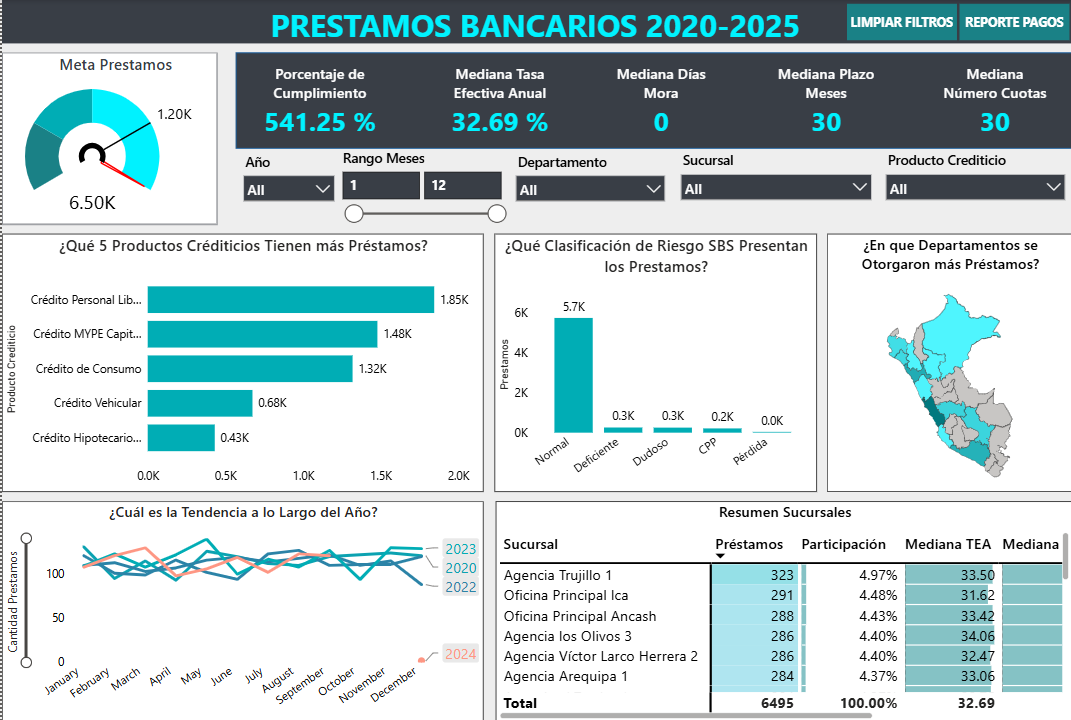

This screenshot's page, from the dashboard's own definition file:
{"tool":"powerbi","page":{"name":"Prestamos Bancarios","canvas":[1480,1000],"ordinal":0},"visuals":[{"type":"shape","box":[0,0,1480,60],"z":0},{"type":"textbox","box":[366.3,0,747.5,72.9],"z":1000},{"type":"actionButton","box":[1324.3,5.7,151.7,50],"z":2000},{"type":"Tachometer1474636471549","title":"Meta Prestamos","fields":{"Y":["Count(fact_prestamos.prestamo_llave)"],"StartValue":["Valores Termometro Prestamos.valor_inicio_meta"],"EndValue":["Valores Termometro Prestamos.valor_final_del_termometro"],"TargetValue":["Valores Termometro Prestamos.meta_prestamos_anuales"],"Range2StartValue":["Valores Termometro Prestamos.inicio_rango_2"],"Range3StartValue":["Valores Termometro Prestamos.inicio_rango_3"]},"box":[0,73.3,297.5,237.7],"z":3000},{"type":"shape","box":[322.9,72.9,1157.1,132.9],"z":4000},{"type":"cardVisual","fields":{"Data":["Metricas.porcentaje_cumplimiento_meta"]},"box":[323.3,73.3,233.3,131.7],"z":5000},{"type":"cardVisual","fields":{"Data":["Metricas.mediana_tasa_efectiva_anual"]},"box":[581.4,72.9,212.7,133.1],"z":6000},{"type":"cardVisual","fields":{"Data":["Median(fact_prestamos.plazo_meses)"]},"box":[1032.9,72.9,212.7,133.1],"z":7000},{"type":"cardVisual","fields":{"Data":["Median(fact_prestamos.numero_cuotas_total)"]},"box":[1267.1,72.9,212.7,133.1],"z":8000},{"type":"slicer","fields":{"Values":["dim_fechas.Año"]},"box":[323.4,206.2,146.9,110.5],"z":9000},{"type":"slicer","fields":{"Values":["dim_fechas.Numero Mes"]},"box":[463.5,204.8,237.2,144.2],"z":10000},{"type":"slicer","fields":{"Values":["dim_productos_crediticios.nombre_producto"]},"box":[1211.4,204.3,268.6,95.7],"z":11000},{"type":"slicer","fields":{"Values":["dim_sucursales.nombre_sucursal"]},"box":[927.1,204.3,284.3,95.7],"z":12000},{"type":"lineChart","title":"¿Cuál es la Tendencia a lo Largo del Año?","fields":{"Category":["dim_fechas.Nombre Mes"],"Series":["dim_fechas.Año"],"Y":["Count(fact_prestamos.prestamo_llave)"]},"box":[0,323.1,665.2,355.9],"z":13000},{"type":"clusteredBarChart","title":"¿Qué 5 Productos Créditicios Tienen más Préstamos?","fields":{"Category":["dim_productos_crediticios.nombre_producto"],"Y":["CountNonNull(fact_prestamos.prestamo_llave)"]},"box":[0,692.8,665.2,307.5],"z":14000},{"type":"clusteredColumnChart","title":"¿Qué Clasificación de Riesgo SBS Presentan los Prestamos?","fields":{"Category":["fact_prestamos.clasificacion_riesgo_sbs"],"Y":["CountNonNull(fact_prestamos.prestamo_llave)"]},"box":[681.4,322.9,445.7,357.1],"z":15000},{"type":"shapeMap","title":"¿En que Departamentos se Otorgaron más Préstamos?","fields":{"Category":["dim_sucursales.departamento"],"Value":["Count(fact_prestamos.prestamo_llave)"]},"box":[1140,322.9,340,356.7],"z":16000},{"type":"pivotTable","title":"Resumen Sucursales","fields":{"Rows":["dim_sucursales.nombre_sucursal"],"Values":["Count(fact_prestamos.prestamo_llave)","Divide(Count(fact_prestamos.prestamo_llave), ScopedEval(Count(fact_prestamos.prestamo_llave), []))","Median(fact_prestamos.tasa_interes_efectiva_anual)","Median(fact_prestamos.numero_cuotas_total)","SparklineData(Count(fact_prestamos.prestamo_llave)_[dim_fechas.Numero Mes])"]},"box":[681.9,693.2,798.6,307.1],"z":17000},{"type":"cardVisual","fields":{"Data":["Median(fact_prestamos.dias_mora)"]},"box":[805.7,72.9,212.7,133.1],"z":18000},{"type":"actionButton","box":[1157.6,5.2,150.3,50.1],"z":19000},{"type":"slicer","fields":{"Values":["dim_sucursales.departamento"]},"box":[700,205.7,227.1,95.7],"z":20000}]}

Visuals, with their boxes in screenshot pixels (x1, y1, x2, y2), scaled from the page's 1480x1000 canvas onto the 1071x720 screenshot:
shape: <box>0,0,1070,43</box>
textbox: <box>265,0,806,52</box>
actionButton: <box>958,4,1068,40</box>
"Meta Prestamos" Tachometer1474636471549: <box>0,53,215,224</box>
shape: <box>234,52,1070,148</box>
cardVisual - Metricas.porcentaje_cumplimiento_meta: <box>234,53,403,148</box>
cardVisual - Metricas.mediana_tasa_efectiva_anual: <box>421,52,575,148</box>
cardVisual - Median(fact_prestamos.plazo_meses): <box>747,52,901,148</box>
cardVisual - Median(fact_prestamos.numero_cuotas_total): <box>917,52,1070,148</box>
slicer - dim_fechas.Año: <box>234,148,340,228</box>
slicer - dim_fechas.Numero Mes: <box>335,147,507,251</box>
slicer - dim_productos_crediticios.nombre_producto: <box>877,147,1070,216</box>
slicer - dim_sucursales.nombre_sucursal: <box>671,147,877,216</box>
"¿Cuál es la Tendencia a lo Largo del Año?" lineChart: <box>0,233,481,489</box>
"¿Qué 5 Productos Créditicios Tienen más Préstamos?" clusteredBarChart: <box>0,499,481,719</box>
"¿Qué Clasificación de Riesgo SBS Presentan los Prestamos?" clusteredColumnChart: <box>493,232,816,490</box>
"¿En que Departamentos se Otorgaron más Préstamos?" shapeMap: <box>825,232,1070,489</box>
"Resumen Sucursales" pivotTable: <box>493,499,1070,719</box>
cardVisual - Median(fact_prestamos.dias_mora): <box>583,52,737,148</box>
actionButton: <box>838,4,946,40</box>
slicer - dim_sucursales.departamento: <box>507,148,671,217</box>
